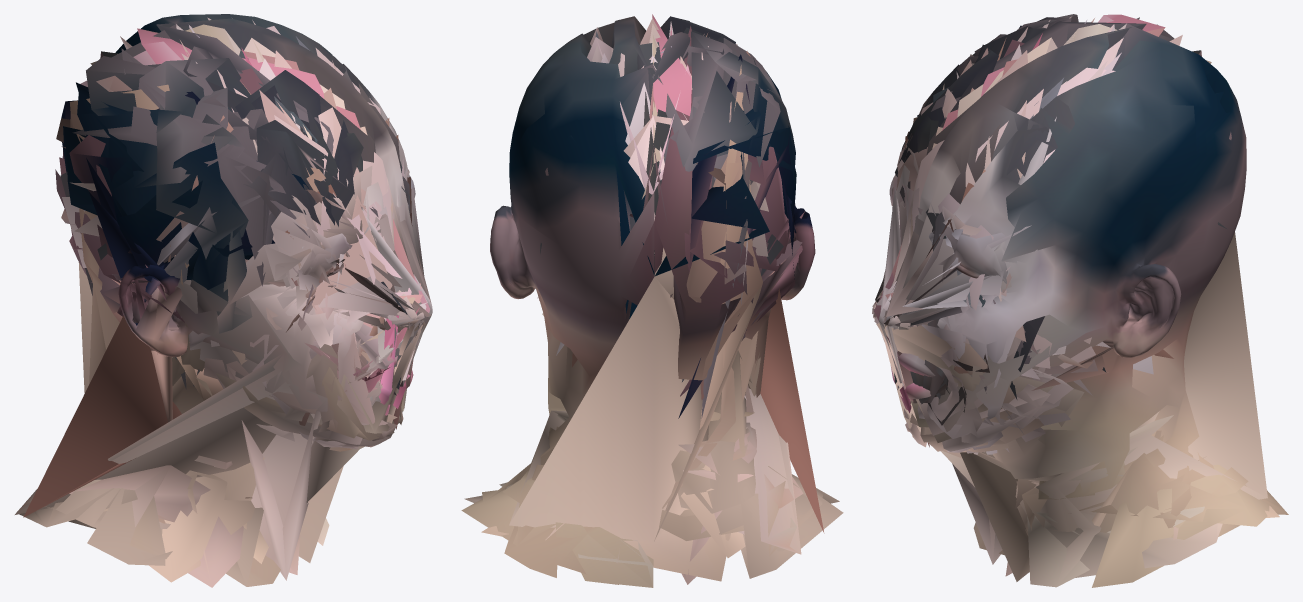
The model's file is deca_textured.obj.
The picture shows the model from 3 angles, left to right: view 1: azimuth 30°, elevation 25°; view 2: azimuth 150°, elevation 25°; view 3: azimuth 270°, elevation 25°; orthographic projection.
Visible parts, largest first — view 1: deca_textured; view 2: deca_textured; view 3: deca_textured.
Part boxes in pixels (left/top/right/bottom): deca_textured: left=15, top=14, right=432, bottom=587; deca_textured: left=461, top=14, right=843, bottom=587; deca_textured: left=872, top=14, right=1288, bottom=587.
Size of the model in its own units: 0.2118 by 0.3211 by 0.2287.
Materials: 1 (1 with a texture image).
